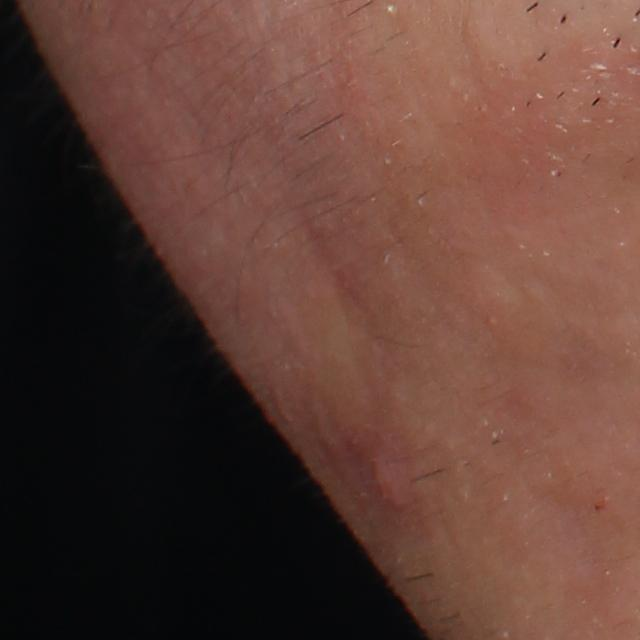papule: (359, 447, 416, 528)
